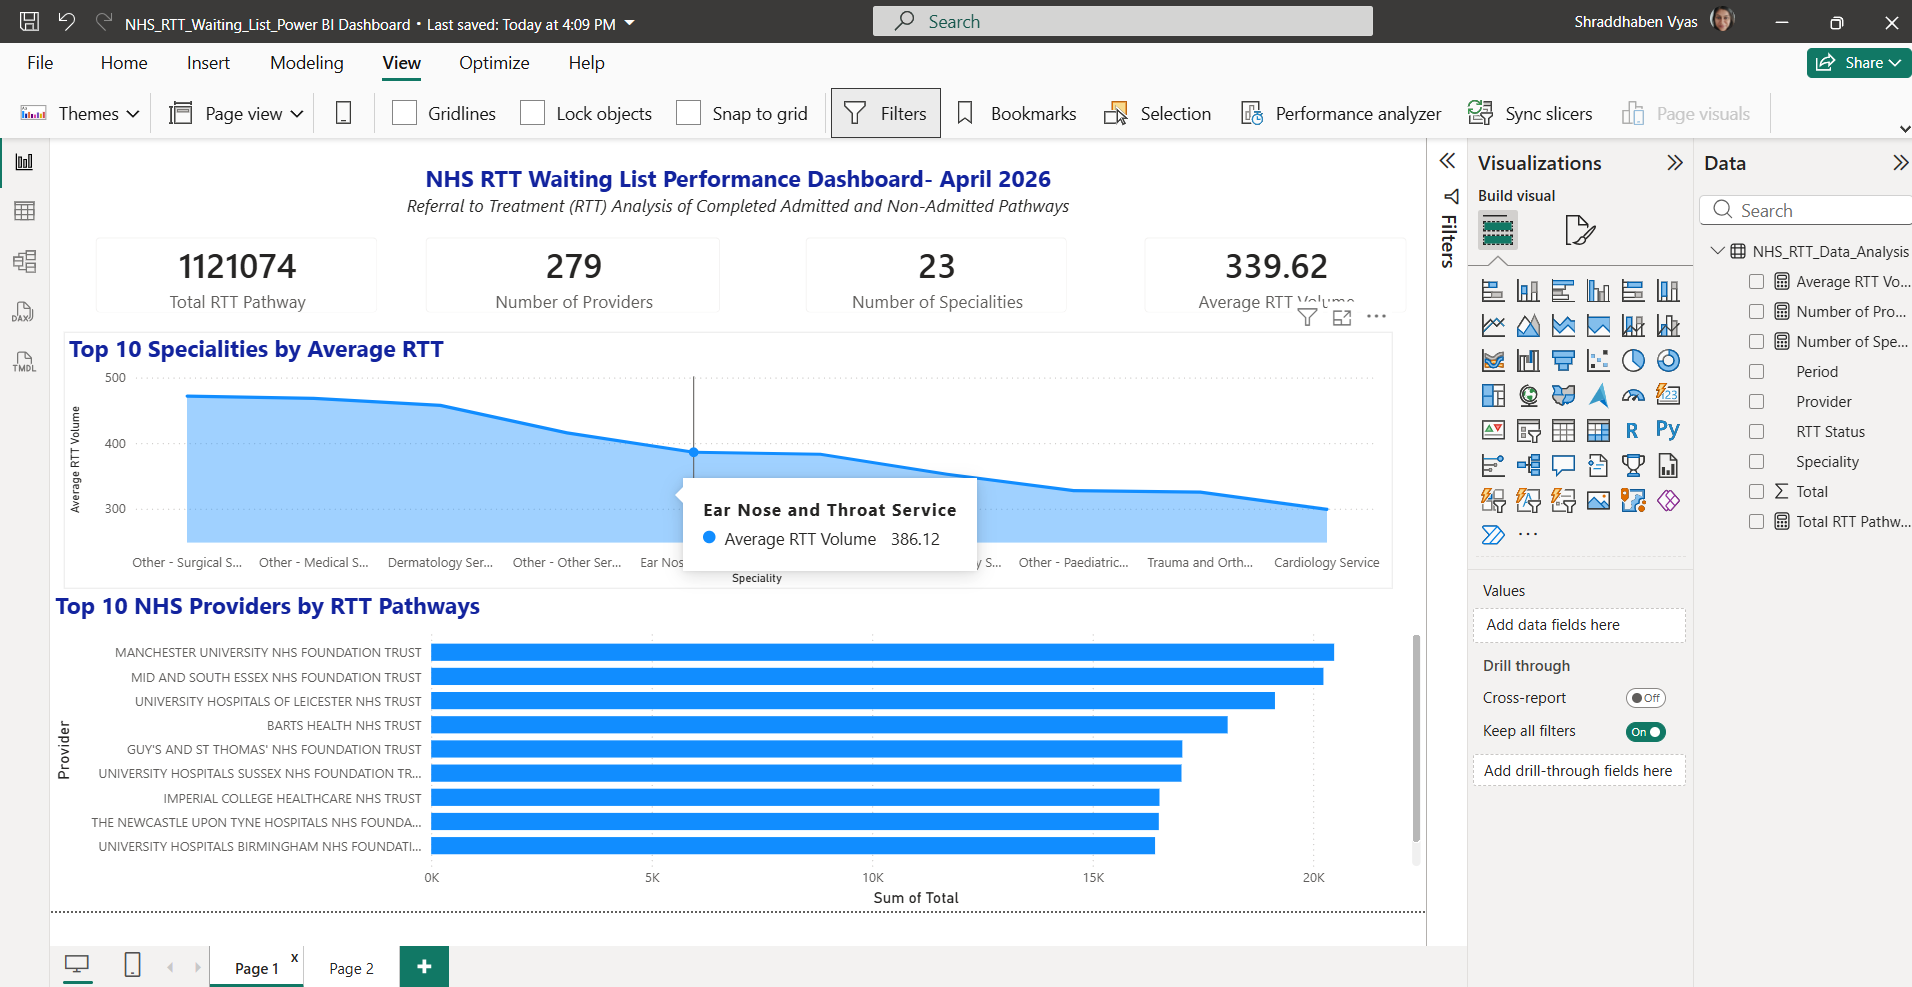

The page's visual inventory and layout, read from the dashboard file:
{"tool":"powerbi","page":{"name":"Page 1","canvas":[1280,720],"ordinal":0},"visuals":[{"type":"cardVisual","fields":{"Data":["NHS_RTT_Data_Analysis.Total RTT Pathway"]},"box":[26.1,75.5,296.4,104.3],"z":0},{"type":"cardVisual","fields":{"Data":["NHS_RTT_Data_Analysis.Number of Providers"]},"box":[332.1,75.5,308.7,104.3],"z":1000},{"type":"cardVisual","fields":{"Data":["NHS_RTT_Data_Analysis.Number of Specialities"]},"box":[686.1,75.5,277.2,104.3],"z":2000},{"type":"cardVisual","fields":{"Data":["NHS_RTT_Data_Analysis.Average RTT Volume"]},"box":[1001.7,75.5,278.6,104.3],"z":3000},{"type":"clusteredBarChart","title":"Top 10 NHS Providers by RTT Pathways","fields":{"Category":["NHS_RTT_Data_Analysis.Provider "],"Y":["Sum(NHS_RTT_Data_Analysis.Total)"]},"box":[0,419.9,1280.3,300.5],"z":4000},{"type":"textbox","box":[0,17.8,1280.3,67.2],"z":5000},{"type":"areaChart","title":"Top 10 Specialities by Average RTT","fields":{"Category":["NHS_RTT_Data_Analysis.Speciality"],"Y":["NHS_RTT_Data_Analysis.Average RTT Volume"]},"box":[12.3,179.8,1236.4,240.1],"z":5001}]}

Visuals, with their boxes on the page's 1280x720 design canvas (x1, y1, x2, y2). These are canvas units, not pixel positions in the 1912x987 screenshot, which may show the page scaled, cropped or inside an application window:
cardVisual - NHS_RTT_Data_Analysis.Total RTT Pathway: x1=26 y1=76 x2=322 y2=180
cardVisual - NHS_RTT_Data_Analysis.Number of Providers: x1=332 y1=76 x2=641 y2=180
cardVisual - NHS_RTT_Data_Analysis.Number of Specialities: x1=686 y1=76 x2=963 y2=180
cardVisual - NHS_RTT_Data_Analysis.Average RTT Volume: x1=1002 y1=76 x2=1280 y2=180
"Top 10 NHS Providers by RTT Pathways" clusteredBarChart: x1=0 y1=420 x2=1280 y2=720
textbox: x1=0 y1=18 x2=1280 y2=85
"Top 10 Specialities by Average RTT" areaChart: x1=12 y1=180 x2=1249 y2=420
